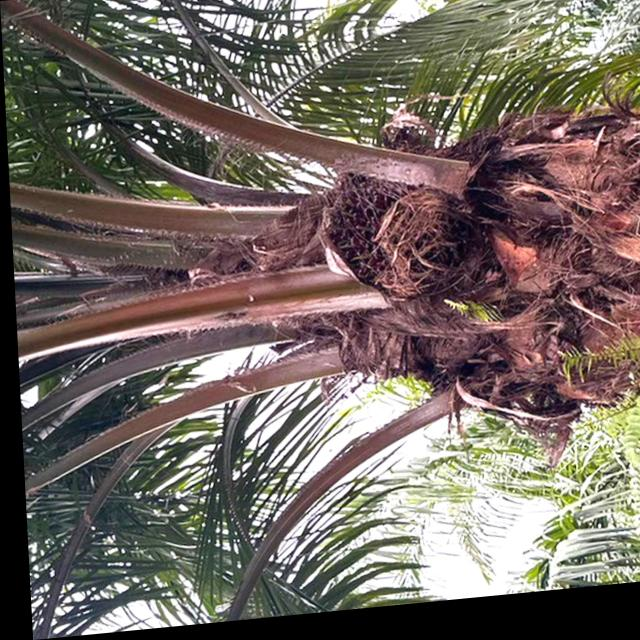ripe: (306, 124, 484, 329)
